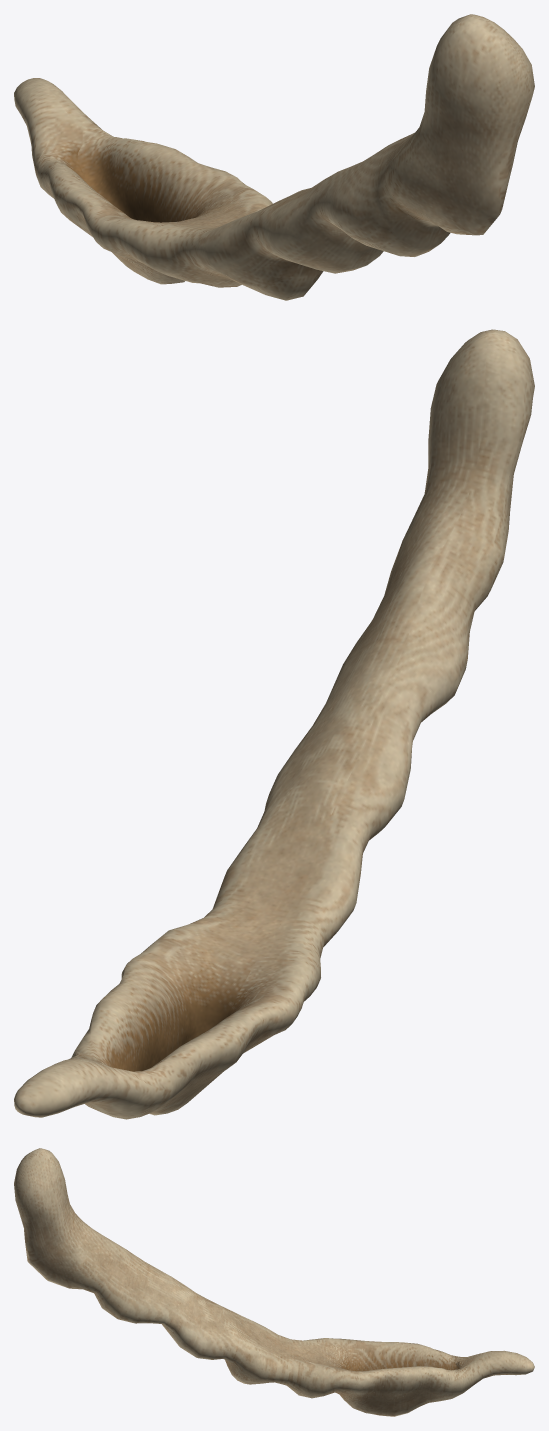
The model's file is Sternum.glb.
3 renders of one model, top to bottom at view 1: azimuth 30°, elevation 25°; view 2: azimuth 150°, elevation 25°; view 3: azimuth 270°, elevation 25°, orthographic. The views are drawn at different scales.
Parts seen in each view (by area): view 1: sternum_low; view 2: sternum_low; view 3: sternum_low.
Boxes of the visible parts, x1,y1,x2,y2 form: sternum_low: [14, 14, 534, 300]; sternum_low: [14, 329, 534, 1119]; sternum_low: [14, 1148, 534, 1416].
Size of the model in its own units: 0.0799 by 0.2344 by 0.4088.
Materials: 1 (1 with a texture image).
